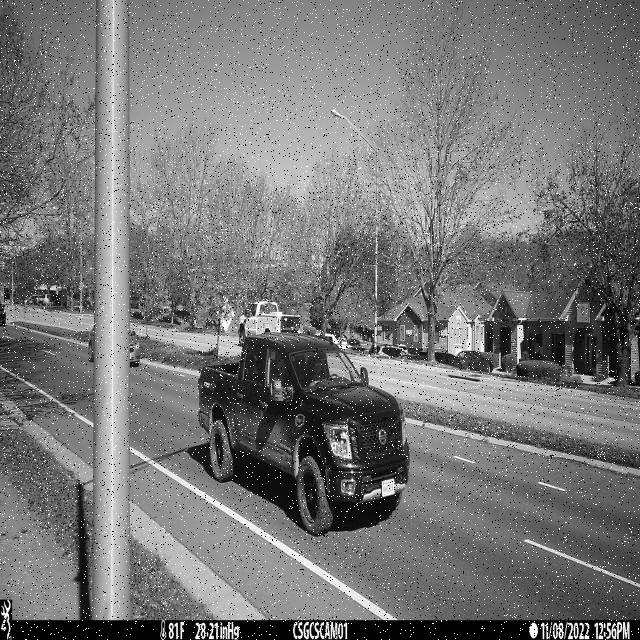Pickup: (198, 332, 410, 538)
